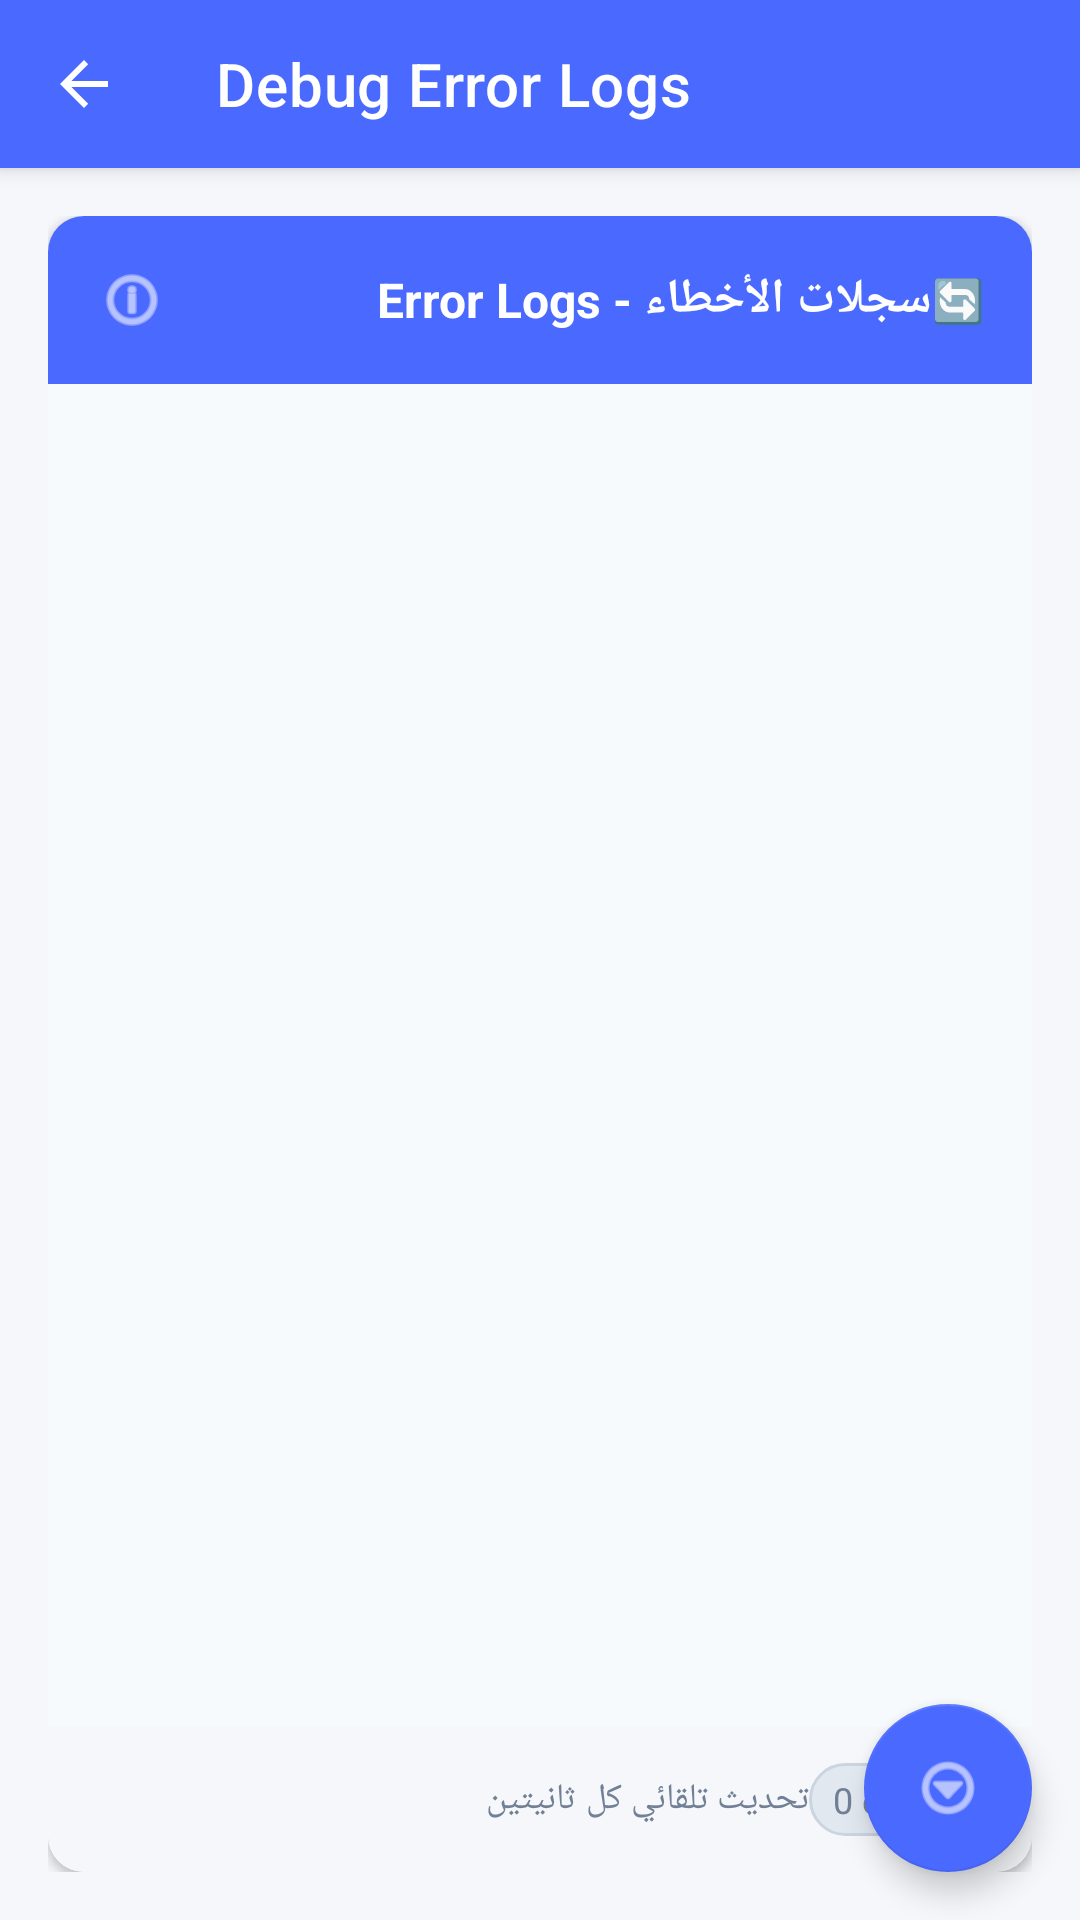

Named icons in this screenshot (1080*1920) and their bounding boxes, (x1, y1, x2, y2):
info details: (106, 274, 158, 326)
